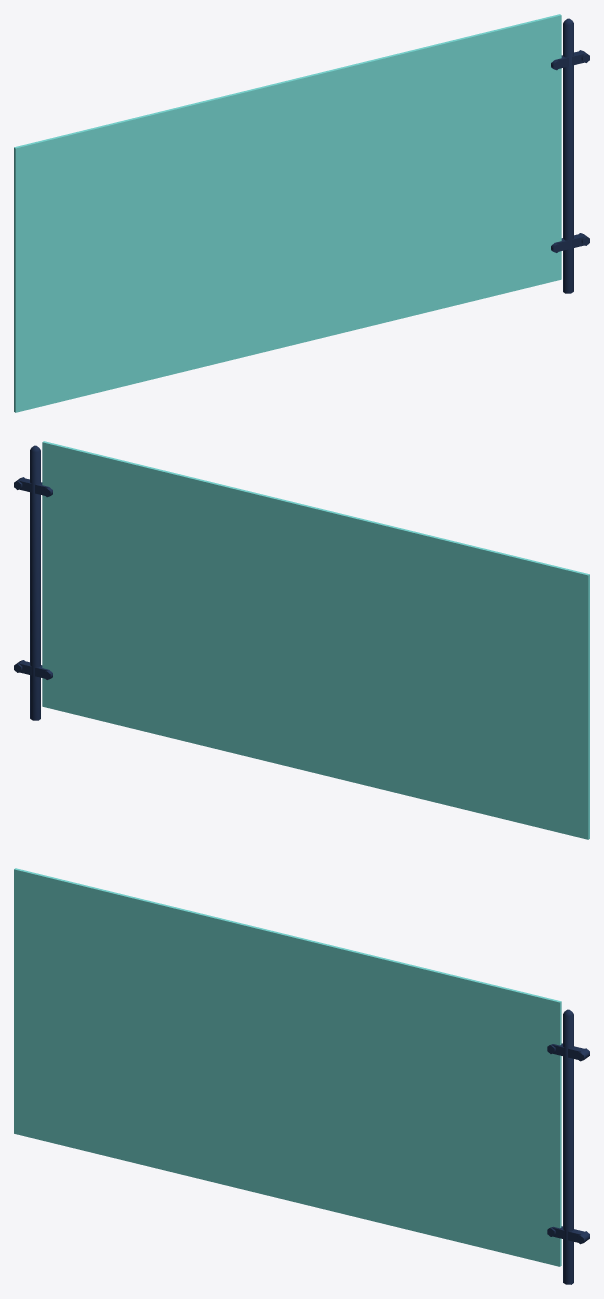
The model's file is Rail Double Test.fbx.
3 renders of one model, top to bottom at view 1: azimuth 30°, elevation 25°; view 2: azimuth 150°, elevation 25°; view 3: azimuth 330°, elevation 25°, orthographic.
Visible parts, largest first — view 1: Rail.001; view 2: Rail.001; view 3: Rail.001.
Boxes of the visible parts, x1,y1,x2,y2 form: Rail.001: [14, 14, 589, 412]; Rail.001: [14, 441, 589, 839]; Rail.001: [14, 868, 589, 1284].
Bounding box in the file's own units: 2.04 × 0.95 × 0.0375.
